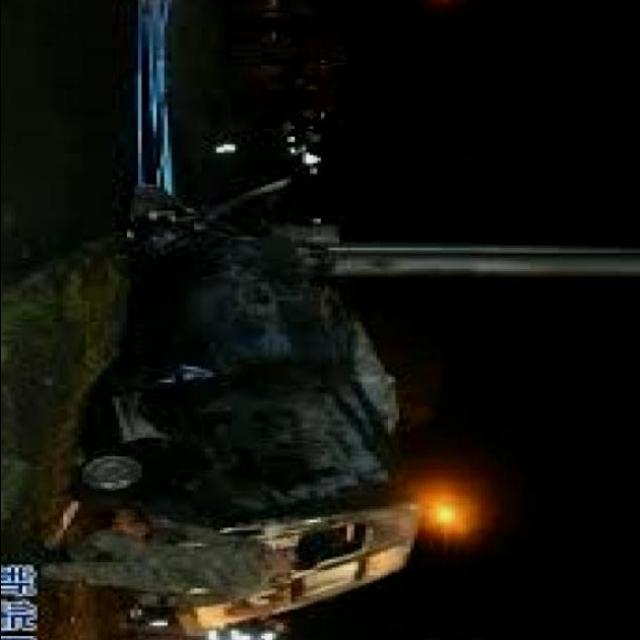accident: (76, 163, 436, 640)
